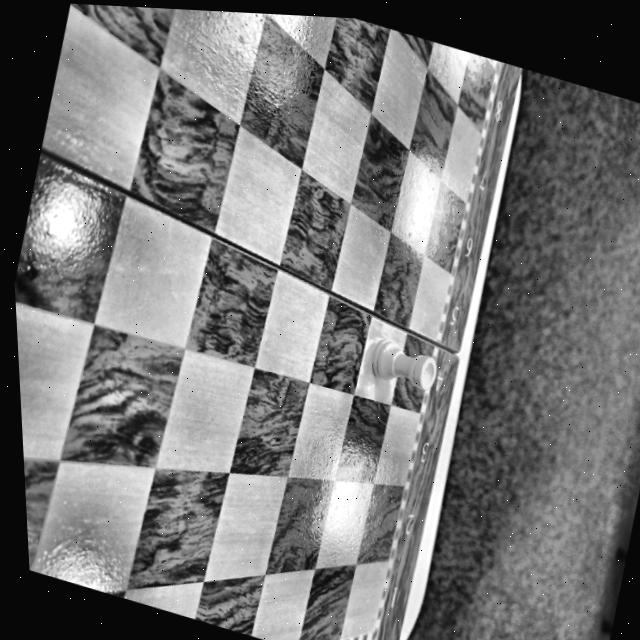white-rook: (372, 338, 436, 389)
